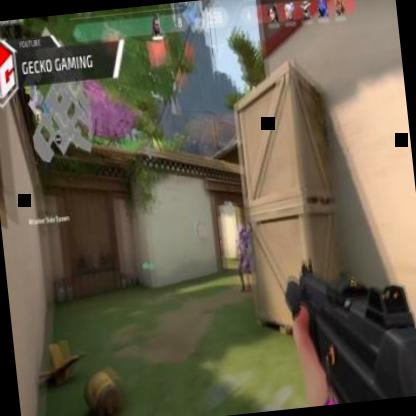enemy: (234, 225, 254, 295)
enemy_head: (238, 226, 244, 236)
